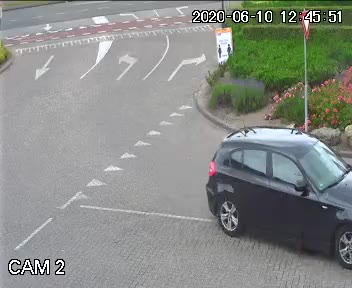car: (172, 121, 352, 256)
